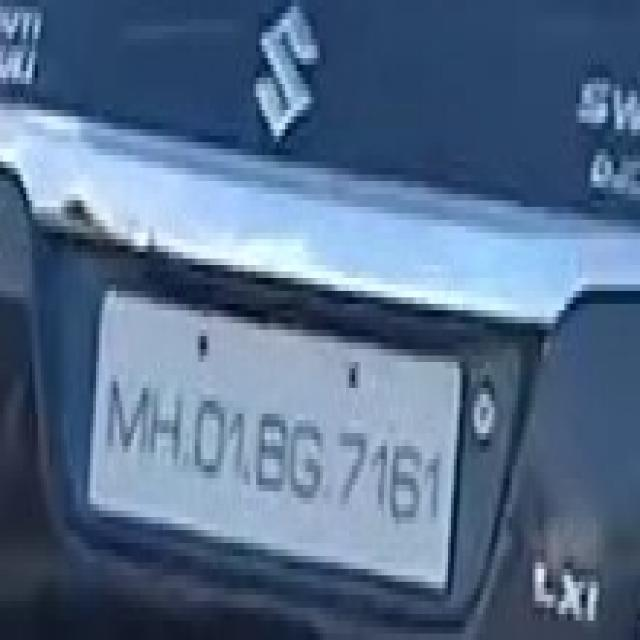license-plate: (84, 278, 457, 588)
